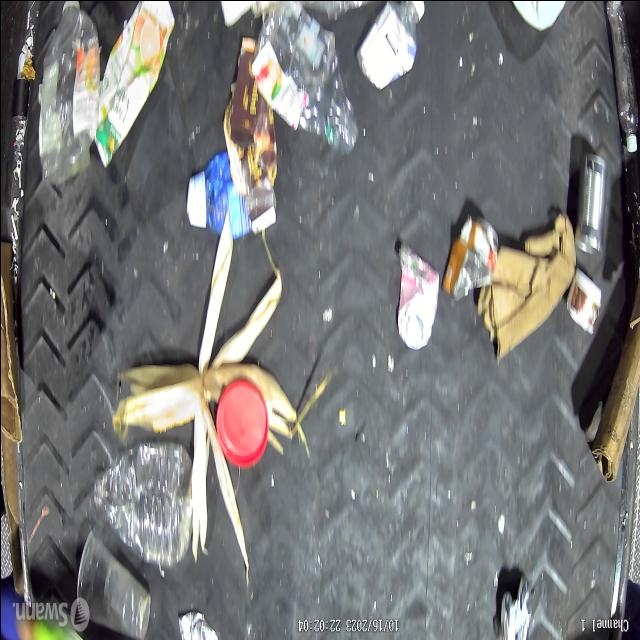can: (441, 212, 498, 302), (394, 240, 438, 352), (572, 148, 608, 258), (176, 609, 218, 640)
non_white_jug: (184, 150, 251, 240)
plastic_bottle: (250, 0, 360, 158), (91, 440, 194, 568), (38, 0, 102, 188), (604, 0, 638, 155)
